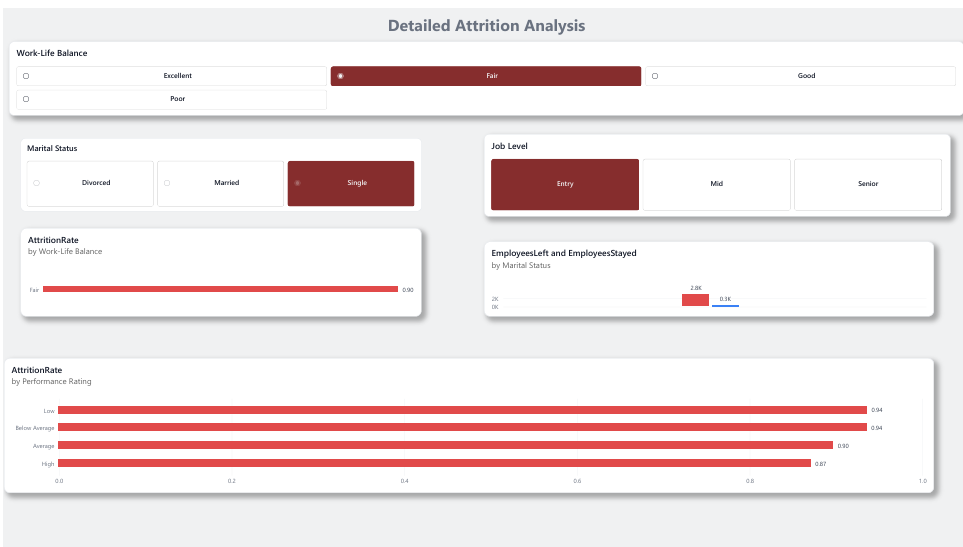

Layout of this report page (visuals, bound fields, positions):
{"tool":"powerbi","page":{"name":"Attrition Analysis","canvas":[1920,1080],"ordinal":1},"visuals":[{"type":"textbox","box":[10,0,1910,65],"z":0},{"type":"advancedSlicerVisual","fields":{"Values":["DimWorkLifeBalance.Work-Life Balance"]},"box":[10,65,1910,147.5],"z":1000},{"type":"advancedSlicerVisual","fields":{"Values":["DimMaritalStatus.Marital Status"]},"box":[33.4,257.7,802.5,147.5],"z":2000},{"type":"advancedSlicerVisual","fields":{"Values":["DimJobLevel.Job Level"]},"box":[960,250,932.5,165],"z":3000},{"type":"clusteredBarChart","fields":{"Y":["factemployees.AttritionRate"],"Category":["DimWorkLifeBalance.Work-Life Balance"]},"box":[32.5,437.5,802.5,177.5],"z":4000},{"type":"clusteredColumnChart","fields":{"Category":["DimMaritalStatus.Marital Status"],"Y":["factemployees.EmployeesLeft","factemployees.EmployeesStayed"]},"box":[960,465,900,150],"z":5000},{"type":"barChart","fields":{"Category":["factemployees.Performance Rating"],"Y":["factemployees.AttritionRate"]},"box":[0,697.5,1860,270],"z":6000}]}

Visuals, with their boxes in screenshot pixels (x1, y1, x2, y2), scaled from the page's 1920x1080 canvas onto the 963x547 screenshot:
textbox: [5, 0, 962, 33]
advancedSlicerVisual - DimWorkLifeBalance.Work-Life Balance: [5, 33, 962, 108]
advancedSlicerVisual - DimMaritalStatus.Marital Status: [17, 131, 419, 205]
advancedSlicerVisual - DimJobLevel.Job Level: [482, 127, 949, 210]
clusteredBarChart - factemployees.AttritionRate x DimWorkLifeBalance.Work-Life Balance: [16, 222, 419, 311]
clusteredColumnChart - DimMaritalStatus.Marital Status x factemployees.EmployeesLeft: [482, 236, 933, 311]
barChart - factemployees.Performance Rating x factemployees.AttritionRate: [0, 353, 933, 490]
